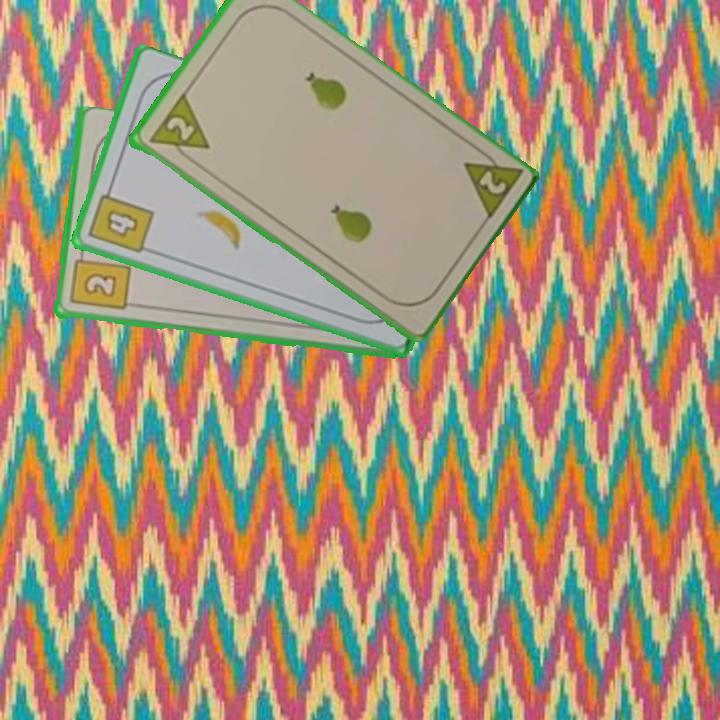2b: (66, 247, 132, 314)
2p: (459, 142, 524, 225), (144, 91, 212, 169)
4b: (85, 182, 157, 257)
